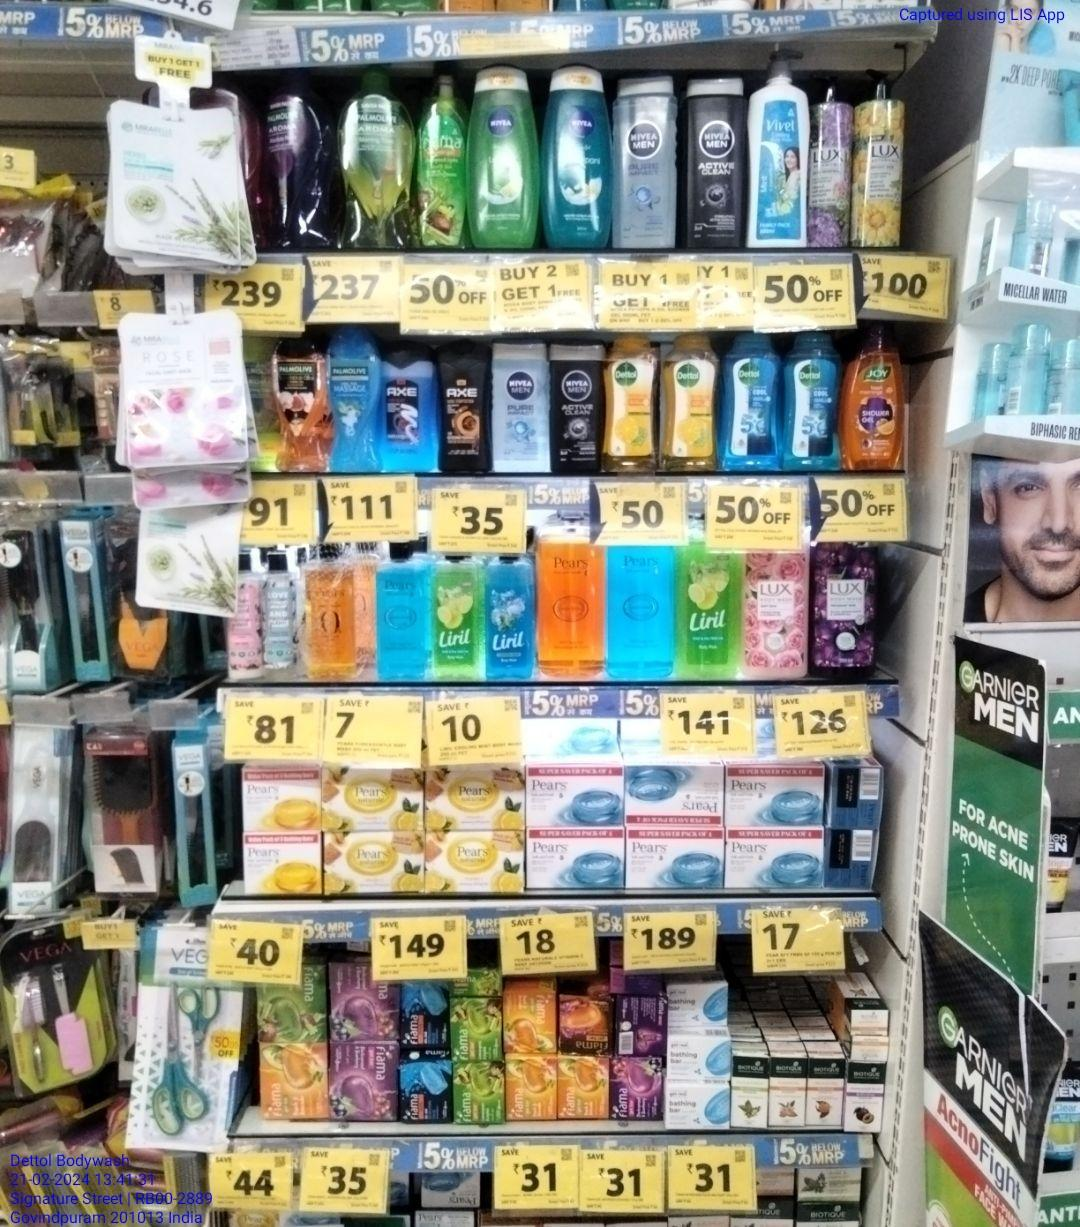Dettol_Bodywash_Cool: (784, 332, 841, 472), (723, 333, 779, 473)
Dettol_Bodywash_Refresh: (659, 330, 716, 472), (603, 332, 656, 474)
Joy_Shower_Gel_Mandarin_and_Lemongrass_250ML: (848, 336, 904, 471)
Liril_Cooling_Mint_Body_Wash_250ML: (486, 551, 535, 678)
Liril_Lime_and_Tea_Tree_Oil_Body_Wash_250ML: (431, 552, 480, 666)
Nivea_Shower_Gel_Lemon_and_Oil_250ML: (467, 67, 536, 247)
Nivea_Shower_Gel_Waterlily_and_Oil_250ML: (541, 59, 611, 251)
Palmolive_Aroma_Moments_Feel_The_Massage_Shower_Gel_250ML: (329, 332, 382, 473)
Palmolive_Luminous_Oils_With_White_Orchid_Shower_Gel_250ML: (271, 334, 326, 478)
Pears_Pure_Glycerin_and_Mint_Extracts_Body_Wash_250ML: (377, 542, 427, 668)
